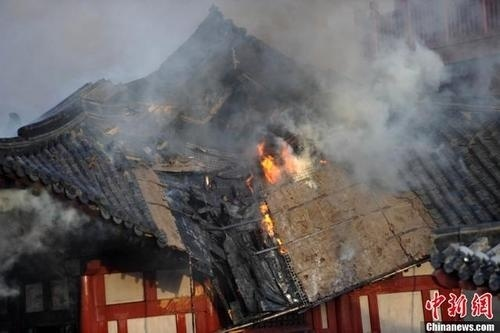fire: (256, 138, 311, 182), (259, 201, 283, 252)
